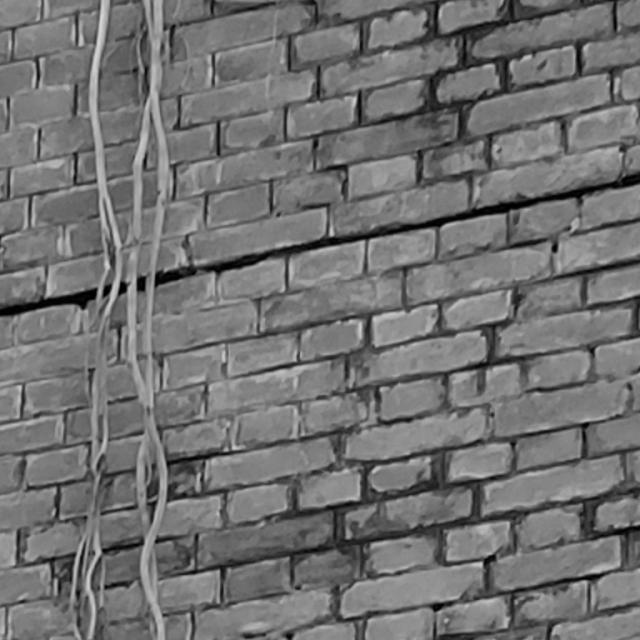crack: (1, 172, 639, 318)
